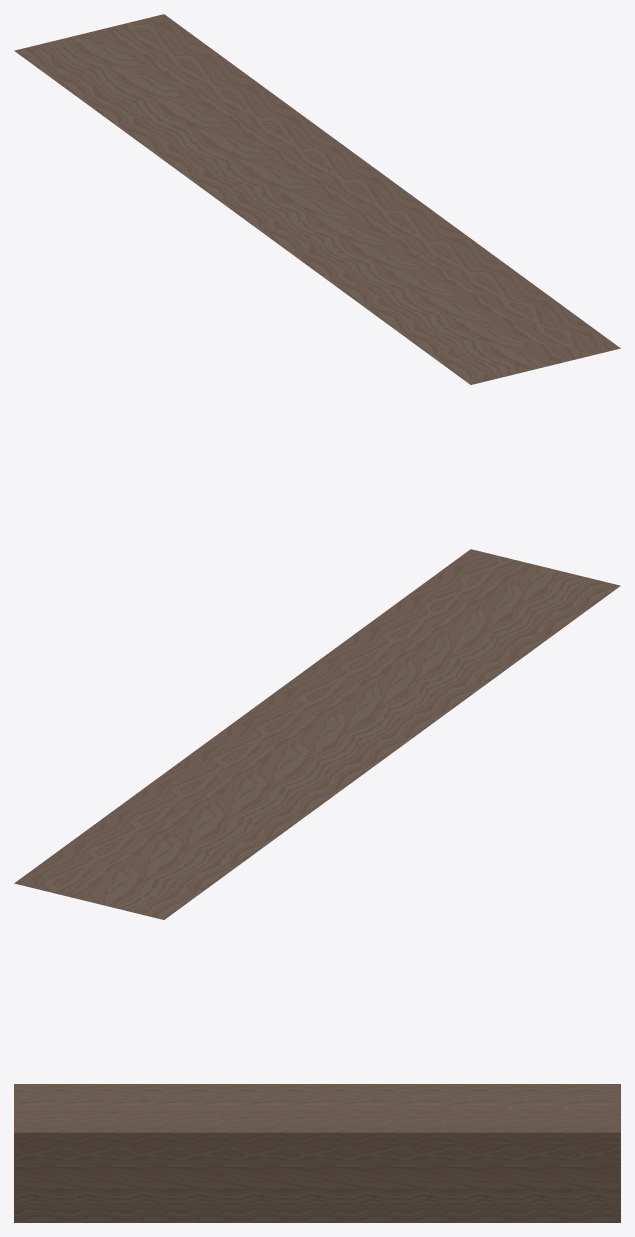
File: kd_stage_135b75_4_9_bounded.glb
3 views of the same model, one above another, from view 1: azimuth 30°, elevation 25°; view 2: azimuth 150°, elevation 25°; view 3: azimuth 270°, elevation 25° (orthographic). The views are drawn at different scales.
Parts seen in each view (by area): view 1: kd_stage_135b75_4_9_bounded; view 2: kd_stage_135b75_4_9_bounded; view 3: kd_stage_135b75_4_9_bounded.
Boxes of the visible parts, <box> form: kd_stage_135b75_4_9_bounded: <box>14,14,620,384</box>; kd_stage_135b75_4_9_bounded: <box>14,549,620,919</box>; kd_stage_135b75_4_9_bounded: <box>14,1084,620,1222</box>.
Size of the model in its own units: 0.1492 by 0.1289 by 0.7861.
1 material, 1 textured.
